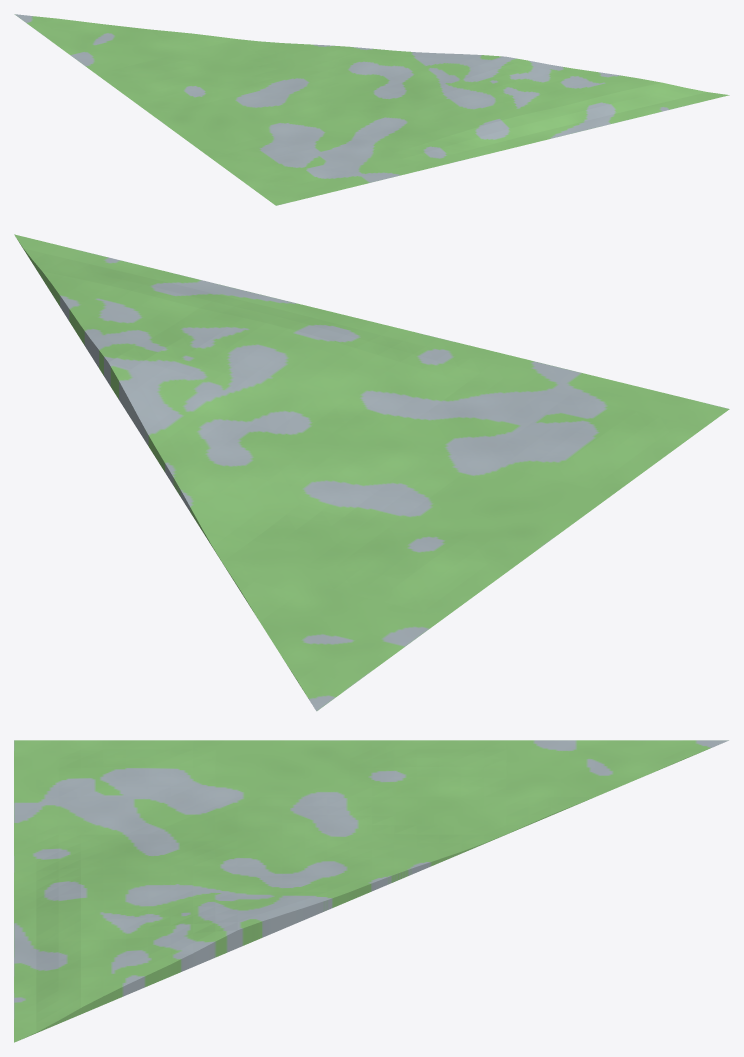
File: Grass_RockyGround_01_NW.obj
3 views of the same model, one above another, from view 1: azimuth 30°, elevation 25°; view 2: azimuth 150°, elevation 25°; view 3: azimuth 270°, elevation 25° (orthographic). The views are drawn at different scales.
Size of the model in its own units: 10 by 0.2768 by 10.
1 material, 1 textured.
